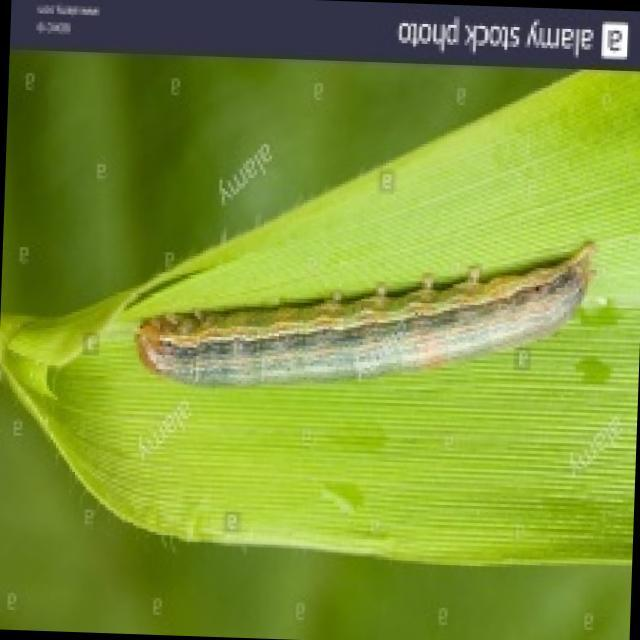Plaga: (124, 220, 610, 414)
